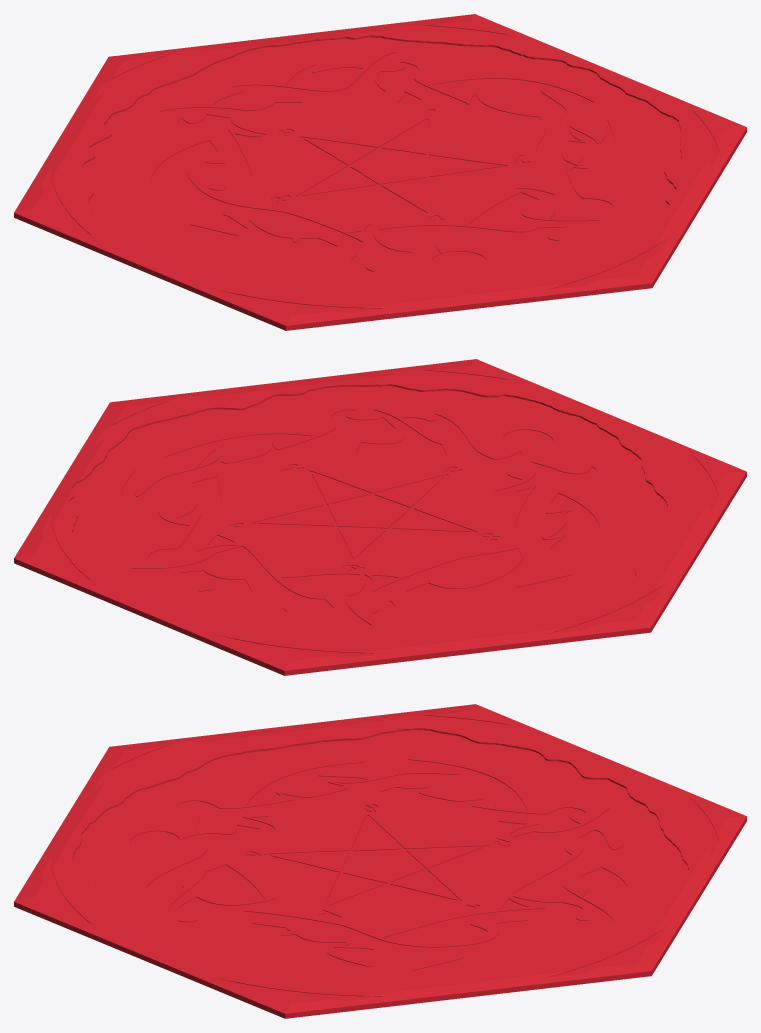
File: dragon_altar.glb
3 renders of one model, top to bottom at view 1: azimuth 30°, elevation 25°; view 2: azimuth 150°, elevation 25°; view 3: azimuth 270°, elevation 25°, orthographic.
Visible parts, largest first — view 1: HelmThrone_-_Flat; view 2: HelmThrone_-_Flat; view 3: HelmThrone_-_Flat.
Boxes of the visible parts, x1,y1,x2,y2 form: HelmThrone_-_Flat: [14, 14, 746, 330]; HelmThrone_-_Flat: [14, 359, 746, 675]; HelmThrone_-_Flat: [14, 704, 746, 1018].
Size of the model in its own units: 1 by 0.01 by 1.
